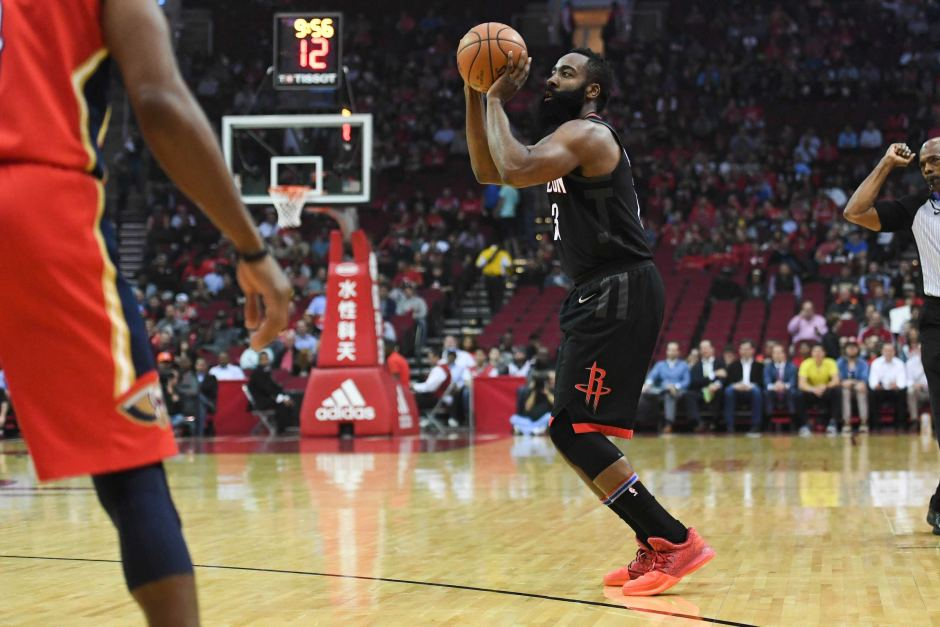Basketball: (457, 20, 528, 92)
